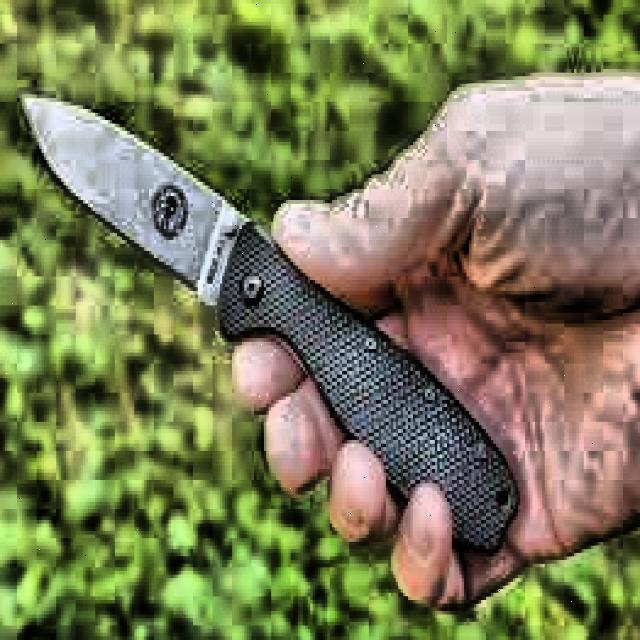knife: (24, 98, 522, 556)
